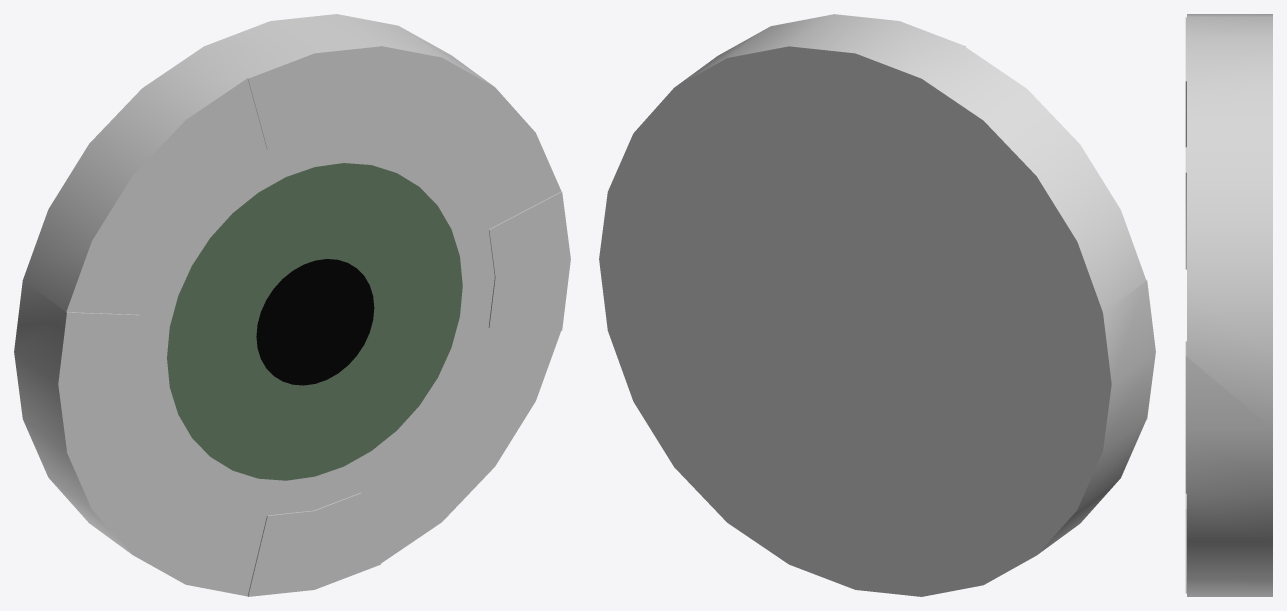
The model's file is target.glb.
3 views of the same model, side by side, from view 1: azimuth 30°, elevation 25°; view 2: azimuth 150°, elevation 25°; view 3: azimuth 270°, elevation 25° (orthographic).
Parts seen in each view (by area): view 1: targetB, Circle.001, Circle; view 2: targetB; view 3: targetB.
Part boxes in pixels (box(x1,y1,x2,y2)): targetB: box(14, 14, 570, 596); Circle.001: box(167, 163, 462, 480); Circle: box(256, 259, 374, 385); targetB: box(599, 14, 1155, 596); targetB: box(1185, 14, 1272, 596).
Size of the model in its own units: 2.04 by 2.04 by 0.31.
